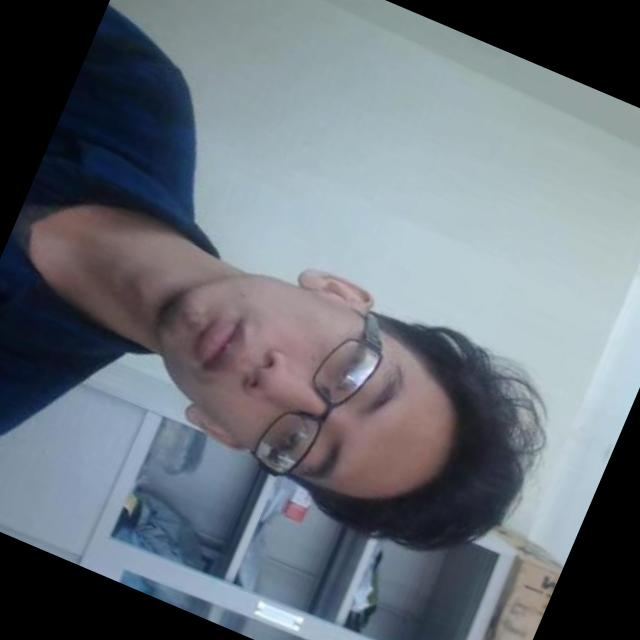bareface: (110, 213, 522, 570)
